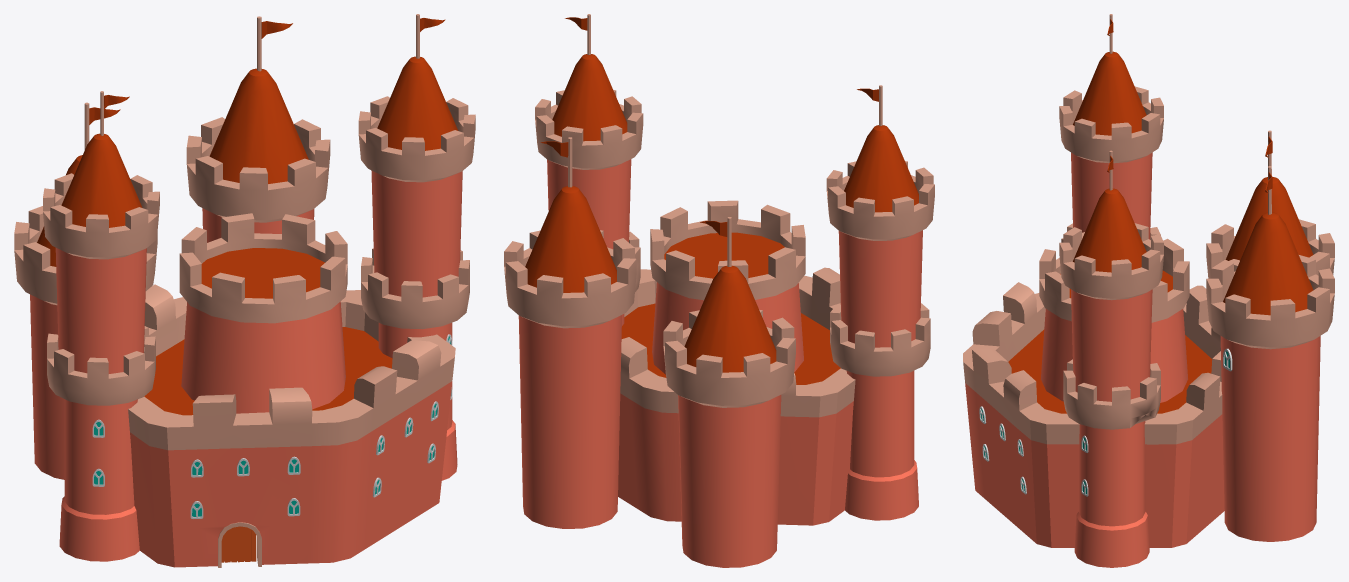
Rendered from Big_Castle_Upgrade2_Stage1.fbx.
3 views of the same model, side by side, from view 1: azimuth 30°, elevation 25°; view 2: azimuth 150°, elevation 25°; view 3: azimuth 270°, elevation 25° (orthographic). The views are drawn at different scales.
Parts seen in each view (by area): view 1: Big_Castle_Upgrade2_Stage1; view 2: Big_Castle_Upgrade2_Stage1; view 3: Big_Castle_Upgrade2_Stage1.
Boxes of the visible parts, <box> form: Big_Castle_Upgrade2_Stage1: <box>14,14,475,567</box>; Big_Castle_Upgrade2_Stage1: <box>504,14,934,567</box>; Big_Castle_Upgrade2_Stage1: <box>963,14,1334,567</box>.
Size of the model in its own units: 983 by 1019 by 853.
Materials: 1 (1 with a texture image).
